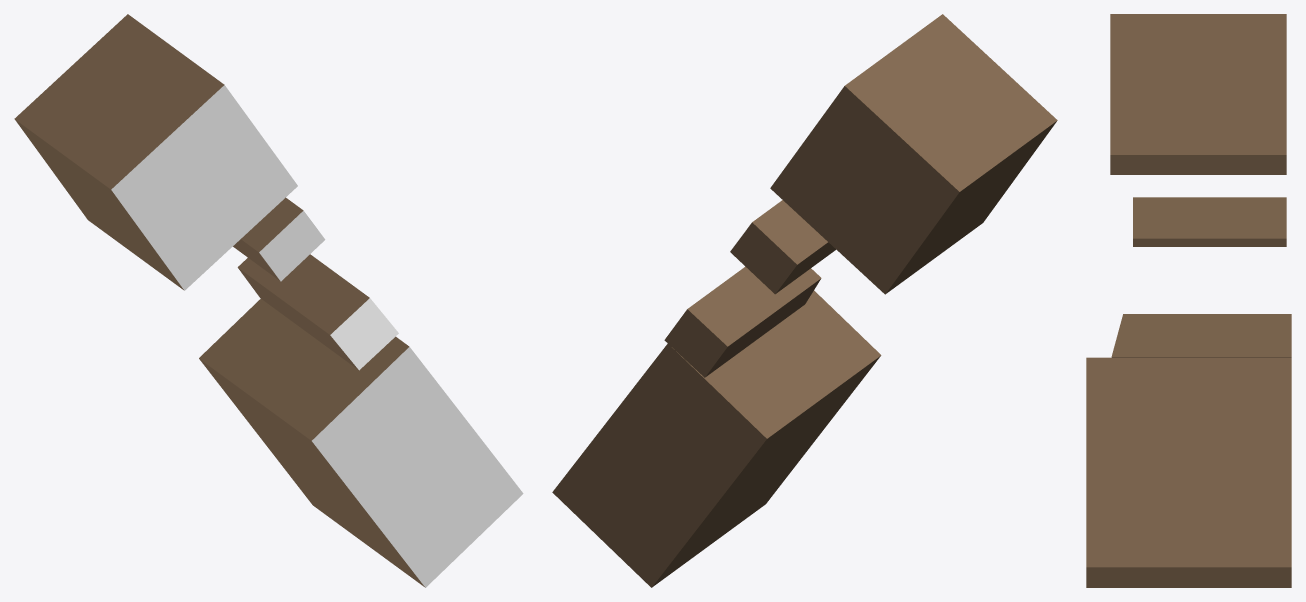
3 renders of one model, left to right at view 1: azimuth 30°, elevation 25°; view 2: azimuth 150°, elevation 25°; view 3: azimuth 270°, elevation 25°, orthographic. The views are drawn at different scales.
Parts seen in each view (by area): view 1: City_2316831; view 2: City_2316831; view 3: City_2316831.
Boxes of the visible parts, box(x1,y1,x2,y2) form: City_2316831: box(14, 14, 523, 587); City_2316831: box(552, 14, 1057, 587); City_2316831: box(1086, 14, 1291, 587).
Bounding box in the file's own units: 2273 × 2934 × 1113.
